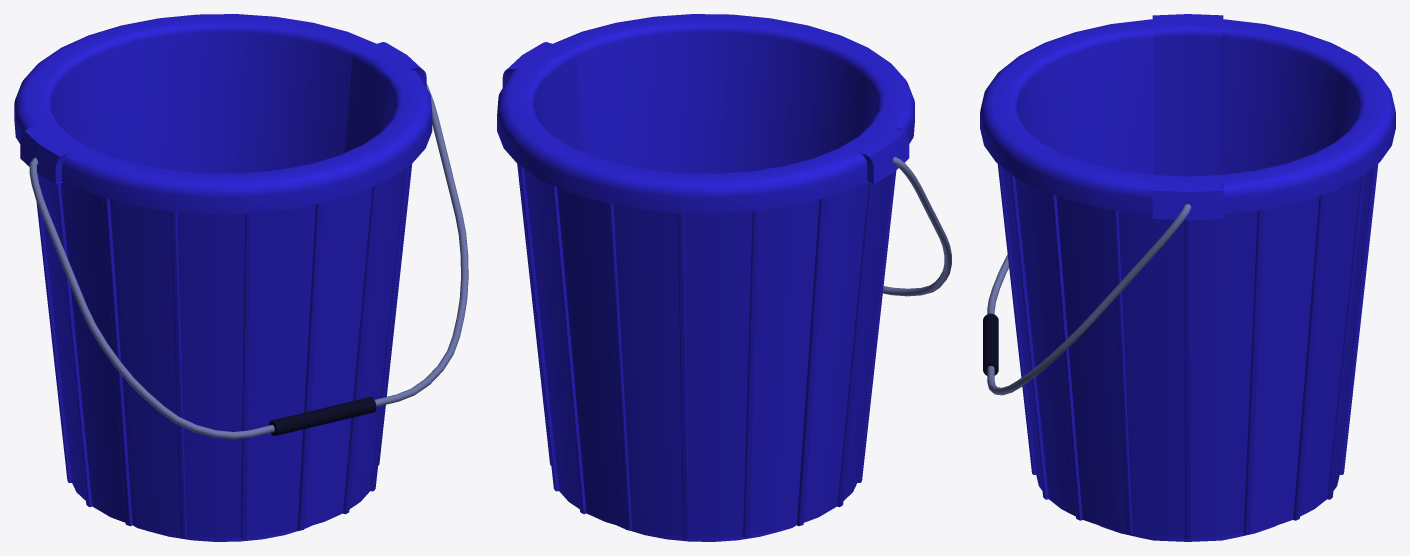
Rendered from Bucket.fbx.
The picture shows the model from 3 angles, left to right: view 1: azimuth 30°, elevation 25°; view 2: azimuth 150°, elevation 25°; view 3: azimuth 270°, elevation 25°; orthographic projection.
Visible parts, largest first — view 1: Cylinder, Plane, Cylinder.001; view 2: Cylinder, Plane; view 3: Cylinder, Plane, Cylinder.001.
Boxes of the visible parts, box(x1,y1,x2,y2) form: Cylinder: box(14, 14, 432, 541); Plane: box(29, 84, 468, 439); Cylinder.001: box(269, 397, 376, 436); Cylinder: box(497, 14, 914, 541); Plane: box(882, 157, 951, 296); Cylinder: box(980, 14, 1395, 541); Plane: box(987, 204, 1191, 395); Cylinder.001: box(983, 313, 998, 375).
Bounding box in the file's own units: 239 × 226 × 218.
